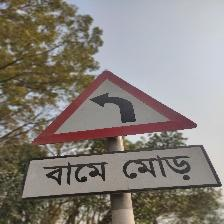Left-Turn: (19, 68, 221, 205)
